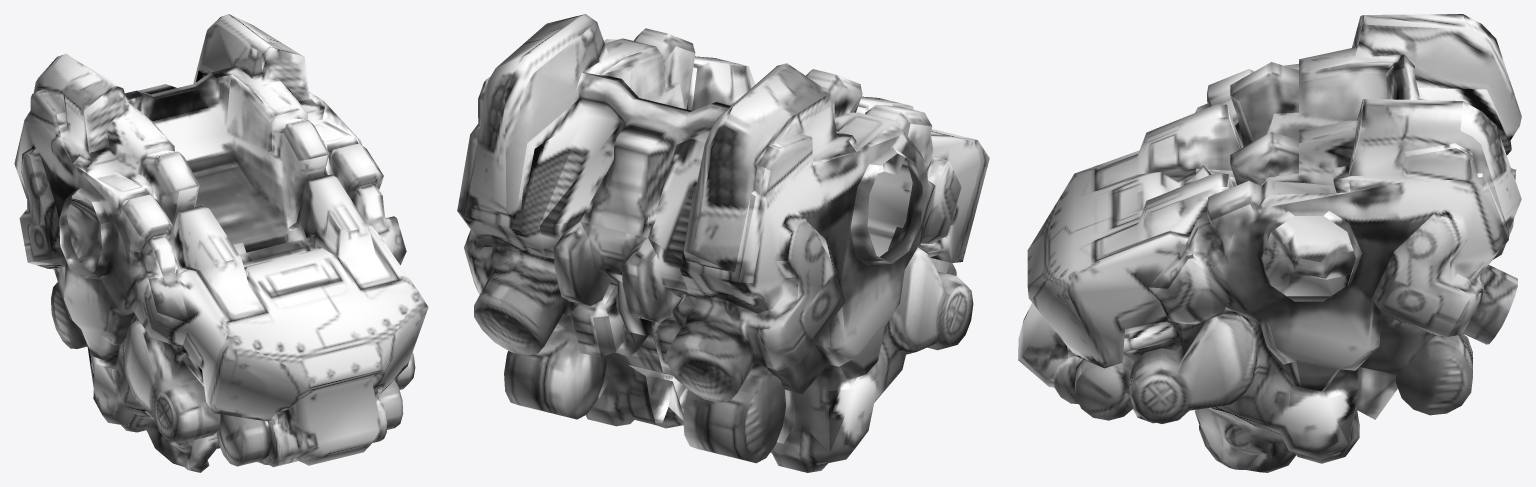
3 views of the same model, side by side, from view 1: azimuth 30°, elevation 25°; view 2: azimuth 150°, elevation 25°; view 3: azimuth 270°, elevation 25° (orthographic). The views are drawn at different scales.
Parts seen in each view (by area): view 1: c_hv; view 2: c_hv; view 3: c_hv.
Part boxes in pixels (left/top/right/bottom): c_hv: left=14, top=14, right=428, bottom=472; c_hv: left=457, top=14, right=989, bottom=472; c_hv: left=1018, top=14, right=1521, bottom=472.
Size of the model in its own units: 0.9653 by 1.14 by 1.36.
Materials: 4 (4 with a texture image).
